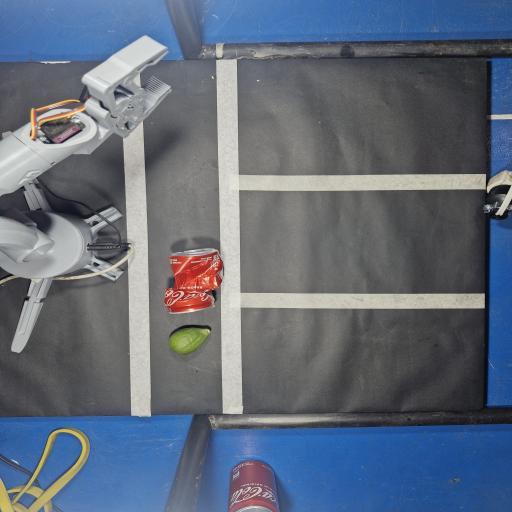higo: (169, 327, 210, 354)
lata_defectuoso: (164, 248, 223, 313)
